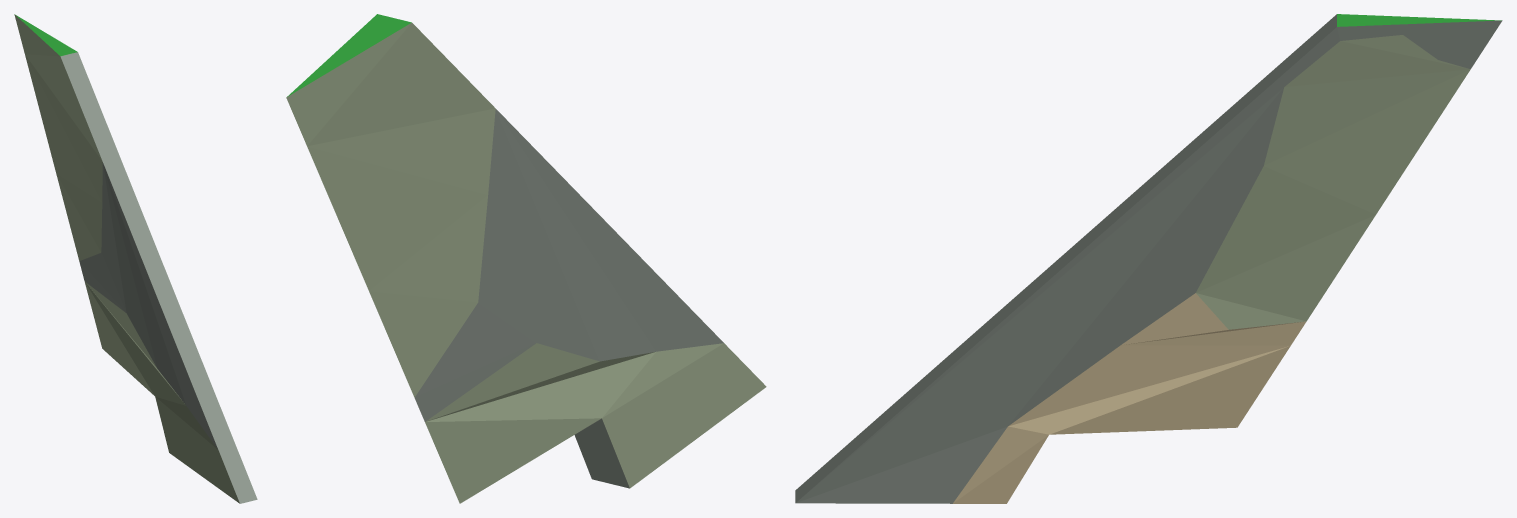
File: cold_war_planes_su_22m4_gdr_surf_rudder.gltf
The picture shows the model from 3 angles, left to right: view 1: azimuth 30°, elevation 25°; view 2: azimuth 150°, elevation 25°; view 3: azimuth 270°, elevation 25°; orthographic projection. The views are drawn at different scales.
Visible parts, largest first — view 1: 0_1_#424c42, 0_2_#60744c, 0_0_#08650c; view 2: 0_2_#60744c, 0_1_#424c42, 0_0_#08650c; view 3: 0_1_#424c42, 0_2_#60744c, 0_3_#ac8e56, 0_0_#08650c.
Part boxes in pixels (bbox=[...]): 0_1_#424c42: bbox=[60, 52, 257, 503]; 0_2_#60744c: bbox=[14, 14, 239, 503]; 0_0_#08650c: bbox=[14, 14, 77, 56]; 0_2_#60744c: bbox=[286, 22, 766, 503]; 0_1_#424c42: bbox=[414, 109, 723, 488]; 0_0_#08650c: bbox=[287, 14, 411, 96]; 0_1_#424c42: bbox=[795, 14, 1502, 503]; 0_2_#60744c: bbox=[1196, 35, 1470, 329]; 0_3_#ac8e56: bbox=[953, 293, 1306, 503]; 0_0_#08650c: bbox=[1337, 14, 1501, 26].
Size of the model in its own units: 0.1083 by 1.7 by 2.28.
